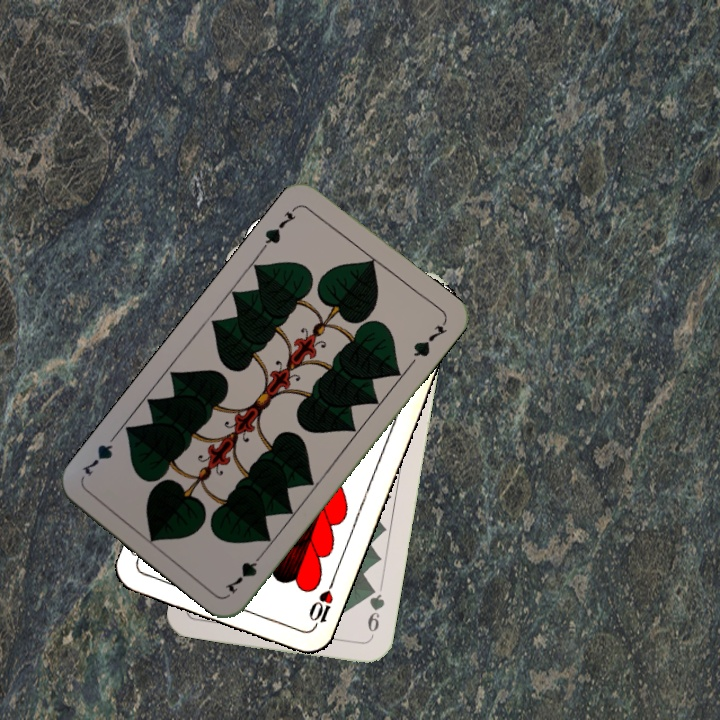G7: (221, 547, 268, 597), (258, 202, 301, 252)
G9: (363, 581, 387, 642)
H10: (304, 577, 337, 633)
